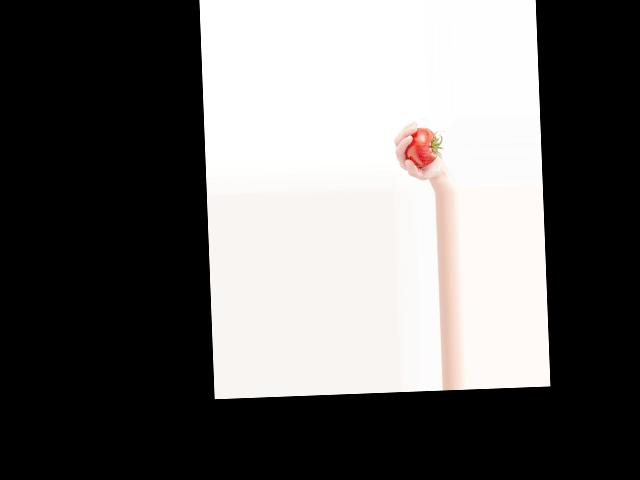tomato: (404, 127, 438, 166)
